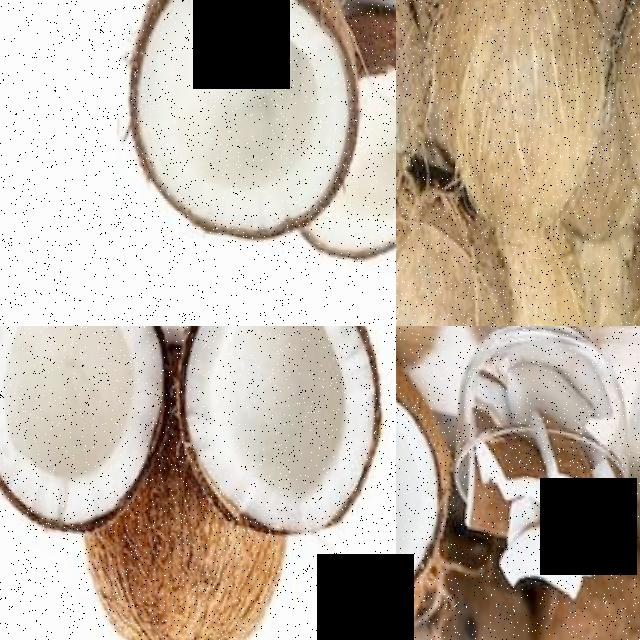coconut: (107, 0, 357, 249), (158, 326, 396, 542), (418, 0, 615, 228), (0, 326, 165, 546), (79, 486, 290, 640), (396, 172, 523, 326), (396, 326, 459, 618), (338, 0, 396, 278), (400, 556, 539, 640), (521, 568, 640, 640)
